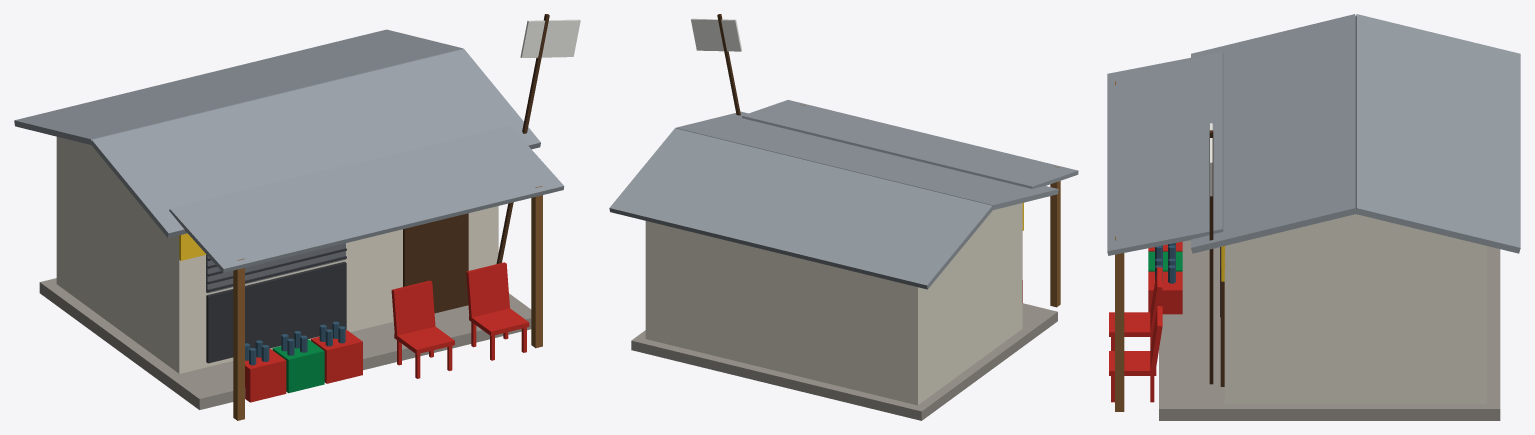
The model's file is Tienda de barrio.fbx.
3 renders of one model, left to right at view 1: azimuth 30°, elevation 25°; view 2: azimuth 150°, elevation 25°; view 3: azimuth 270°, elevation 25°, orthographic. The views are drawn at different scales.
Parts seen in each view (by area): view 1: Tienda de barrio; view 2: Tienda de barrio; view 3: Tienda de barrio.
Boxes of the visible parts, bbox=[...] form: Tienda de barrio: bbox=[14, 14, 580, 420]; Tienda de barrio: bbox=[609, 14, 1078, 420]; Tienda de barrio: bbox=[1107, 14, 1520, 420].
Bounding box in the file's own units: 3.96 × 2.58 × 3.15.
